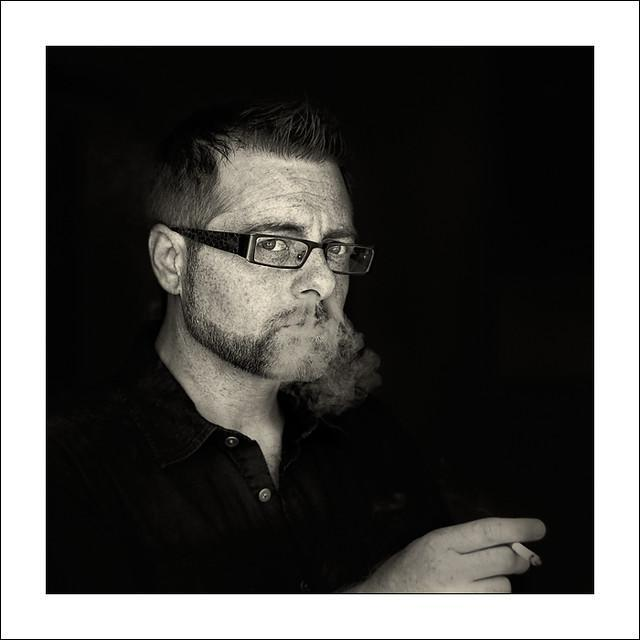rokok: (510, 542, 546, 570)
